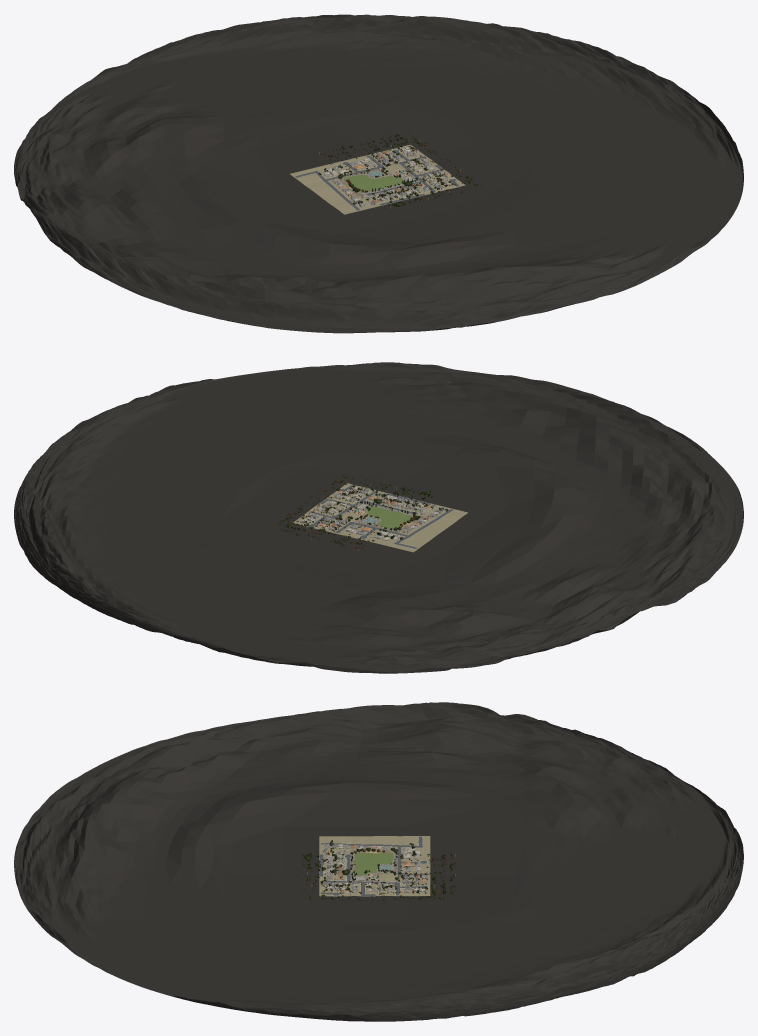
The model's file is sunrise_map.glb.
3 views of the same model, one above another, from view 1: azimuth 30°, elevation 25°; view 2: azimuth 150°, elevation 25°; view 3: azimuth 270°, elevation 25° (orthographic).
Parts seen in each view (by area): view 1: HORIZON hills, TILE_0_0, TILE_-1_-1; view 2: HORIZON hills, TILE_0_0, TILE_-1_-1; view 3: HORIZON hills, TILE_0_0, TILE_-1_-1.
Boxes of the visible parts, left/top/right/bottom form: HORIZON hills: left=14, top=14, right=743, bottom=333; TILE_0_0: left=290, top=144, right=465, bottom=214; TILE_-1_-1: left=343, top=174, right=404, bottom=192; HORIZON hills: left=14, top=362, right=743, bottom=673; TILE_0_0: left=293, top=483, right=467, bottom=552; TILE_-1_-1: left=366, top=506, right=414, bottom=529; HORIZON hills: left=14, top=702, right=743, bottom=1021; TILE_0_0: left=319, top=836, right=430, bottom=896; TILE_-1_-1: left=353, top=852, right=394, bottom=875.
Size of the model in its own units: 2179 by 81.95 by 2172.
118 materials, 5 textured.
